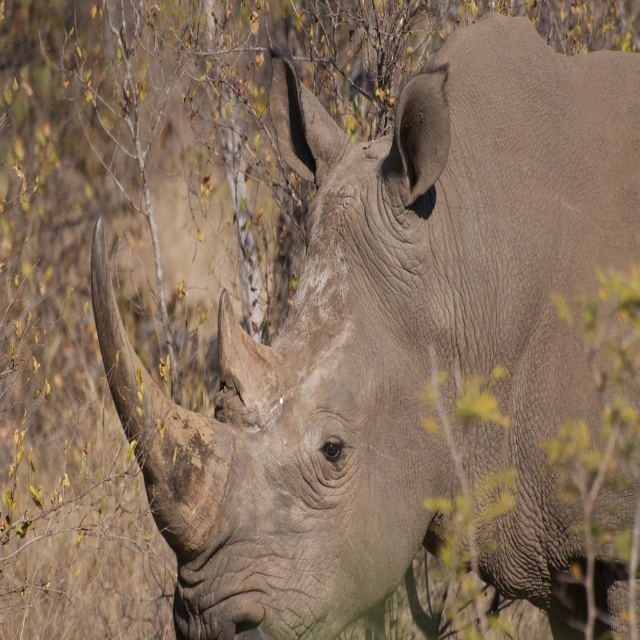Rhinoceros: (91, 8, 640, 639)
